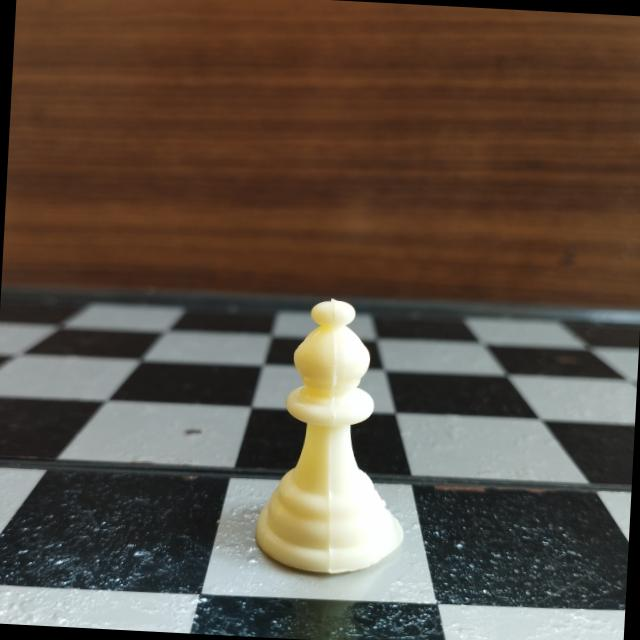White Bishop: (246, 284, 422, 582)
